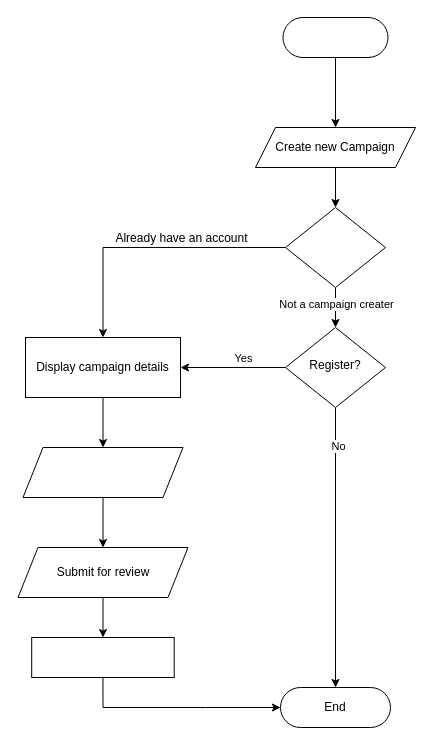
This 433x745 diagram has some shape labels left out. Here are the shapes that lost their labels. From the top down, the centre of each, then its label:
point 335,37: Start
point 102,472: Enter campaign details
point 102,657: notification completed
